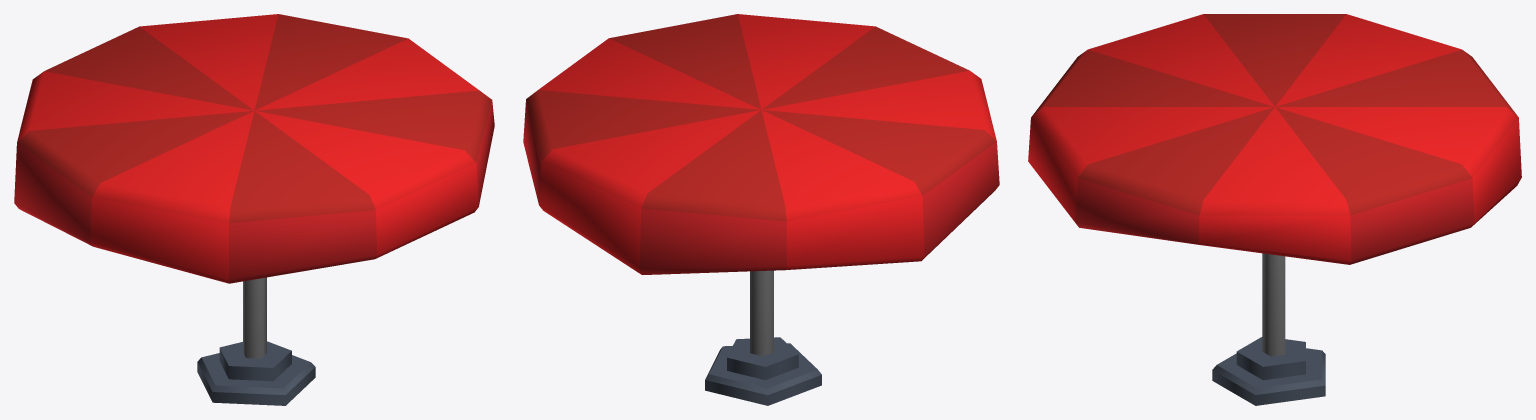
Rendered from Table_1_F.fbx.
3 renders of one model, left to right at view 1: azimuth 30°, elevation 25°; view 2: azimuth 150°, elevation 25°; view 3: azimuth 270°, elevation 25°, orthographic.
Parts seen in each view (by area): view 1: Table_1_F; view 2: Table_1_F; view 3: Table_1_F.
Part boxes in pixels (x1,y1,x2,y2): Table_1_F: (14,14,494,405); Table_1_F: (523,14,999,405); Table_1_F: (1028,14,1521,405).
Bounding box in the file's own units: 134 × 86.3 × 141.
